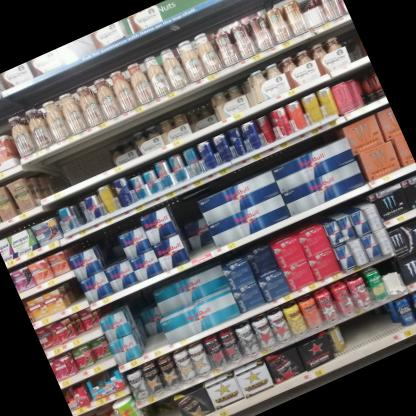empty_space: (32, 133, 117, 202), (339, 302, 399, 358)
